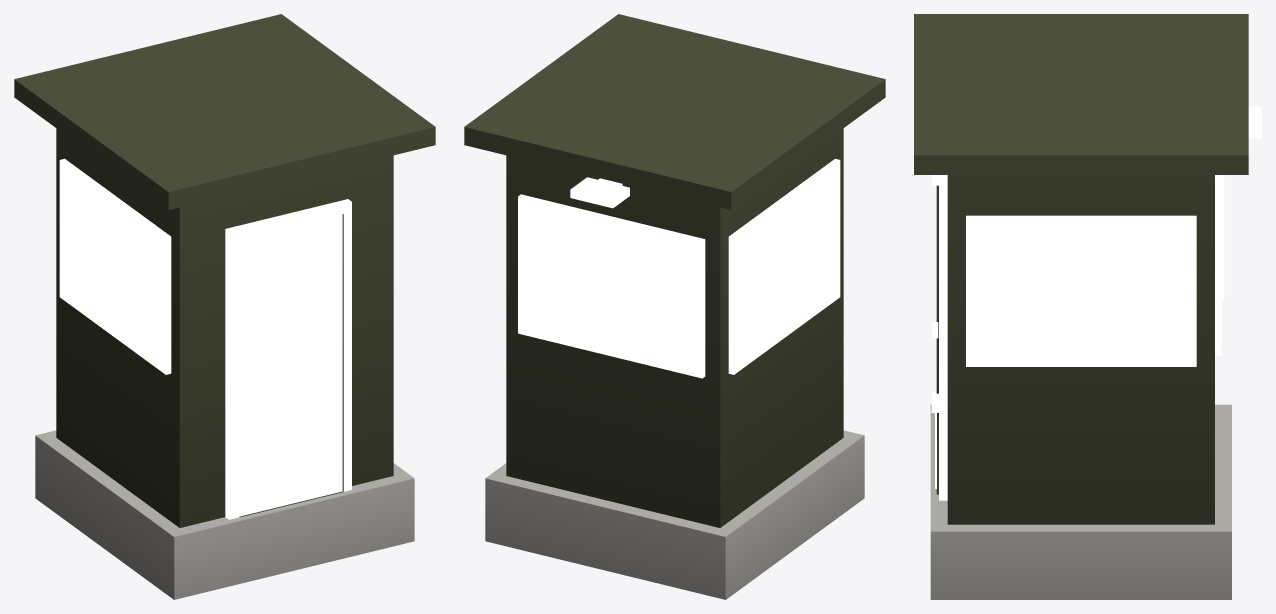
File: guard_booth.glb
3 renders of one model, left to right at view 1: azimuth 30°, elevation 25°; view 2: azimuth 150°, elevation 25°; view 3: azimuth 270°, elevation 25°, orthographic. The views are drawn at different scales.
Parts seen in each view (by area): view 1: guard_booth_LOD0; view 2: guard_booth_LOD0; view 3: guard_booth_LOD0.
Boxes of the visible parts, left/top/right/bottom form: guard_booth_LOD0: left=14, top=14, right=435, bottom=599; guard_booth_LOD0: left=464, top=14, right=885, bottom=599; guard_booth_LOD0: left=914, top=14, right=1261, bottom=599.
Size of what is drawn, in the model's own units: 2 by 2.98 by 2.08.
